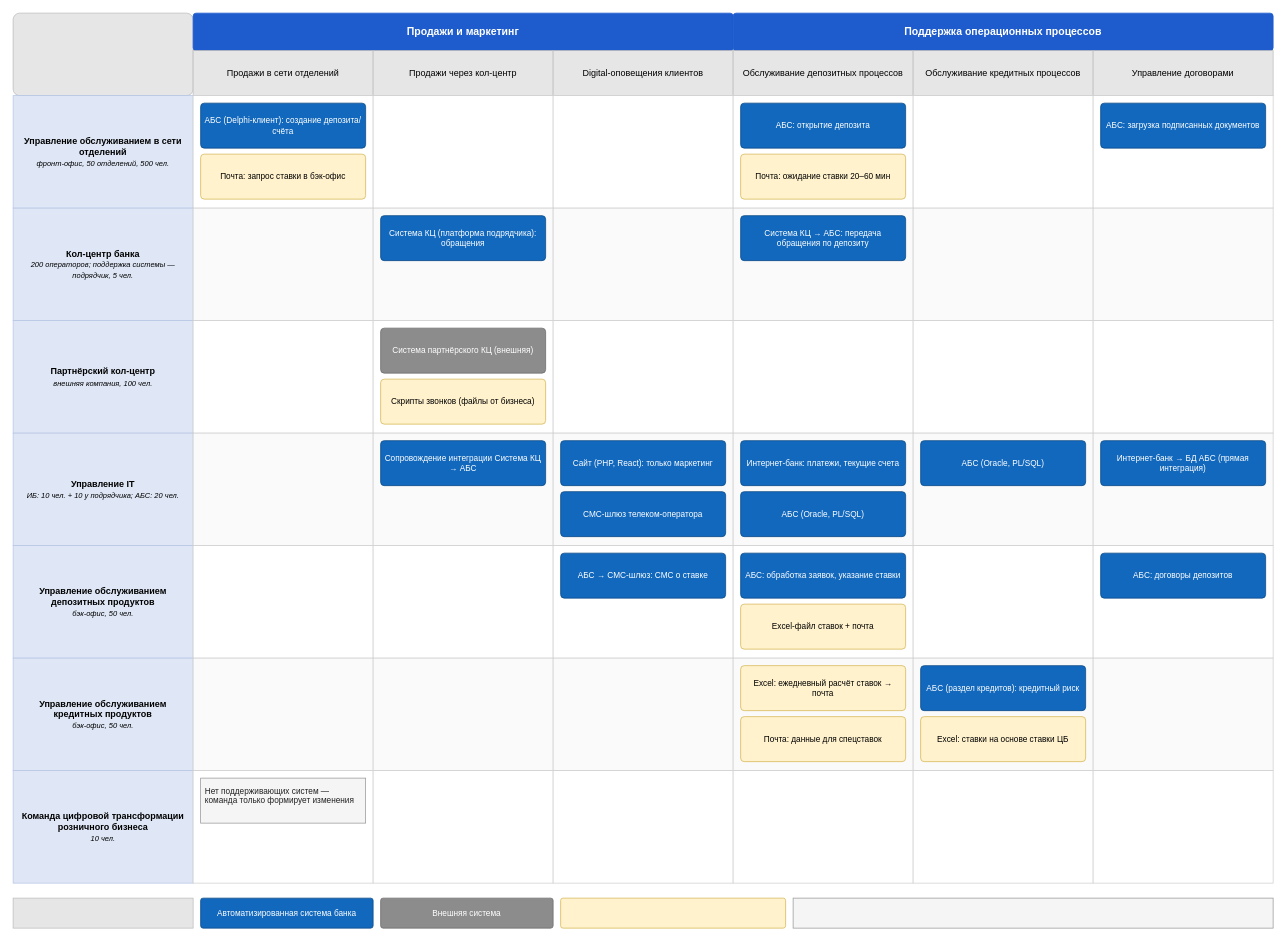
Some shapes in this 1286 by 941 pixel diagram are drawn without their labels. The centre of each missing label's shape, as x and y in pixels:
"Легенда" belongs at [102,912].
"Подразделение \ Бизнес-возможность" belongs at [102,54].
"Пустая ячейка — возможность подразделением не поддерживается IT-системой" belongs at [1032,912].
"Ручной процесс (Excel, почта, файлы) — узкое место" belongs at [673,912].
